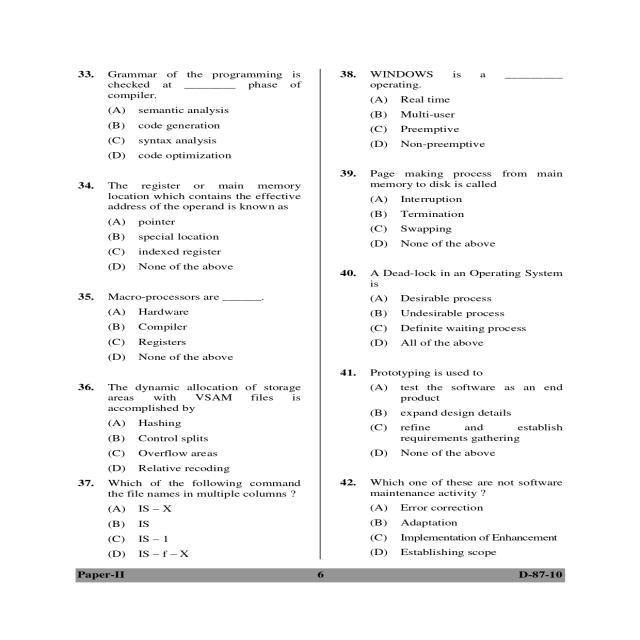Answer_Block: (326, 380, 568, 460), (72, 101, 316, 163), (74, 213, 317, 274), (324, 502, 569, 562), (72, 415, 316, 473), (71, 307, 314, 363), (324, 193, 567, 249), (326, 94, 568, 150), (324, 294, 567, 349), (72, 506, 316, 560)
Question_Answer_Block: (322, 360, 568, 462), (72, 64, 316, 163), (73, 177, 316, 276), (72, 378, 316, 474), (324, 472, 569, 562), (323, 64, 569, 152), (323, 266, 569, 352), (323, 166, 570, 250), (71, 477, 316, 561), (71, 287, 316, 363)
Question_Block: (71, 65, 317, 102), (72, 178, 316, 213), (72, 378, 316, 413), (322, 63, 568, 92), (72, 476, 316, 504), (324, 474, 567, 502), (324, 265, 568, 292), (322, 166, 572, 192), (72, 288, 316, 306), (324, 361, 567, 379)
Question_Paper_Area: (323, 64, 570, 562), (72, 64, 316, 561)
